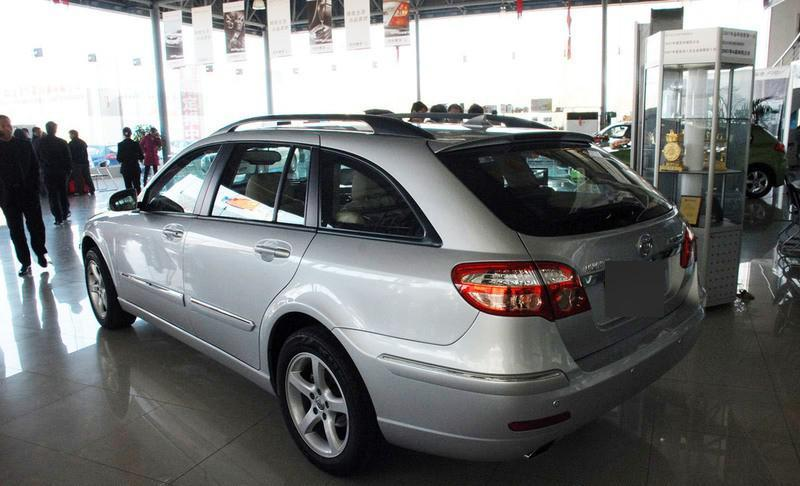Wagon: (79, 111, 707, 478)
